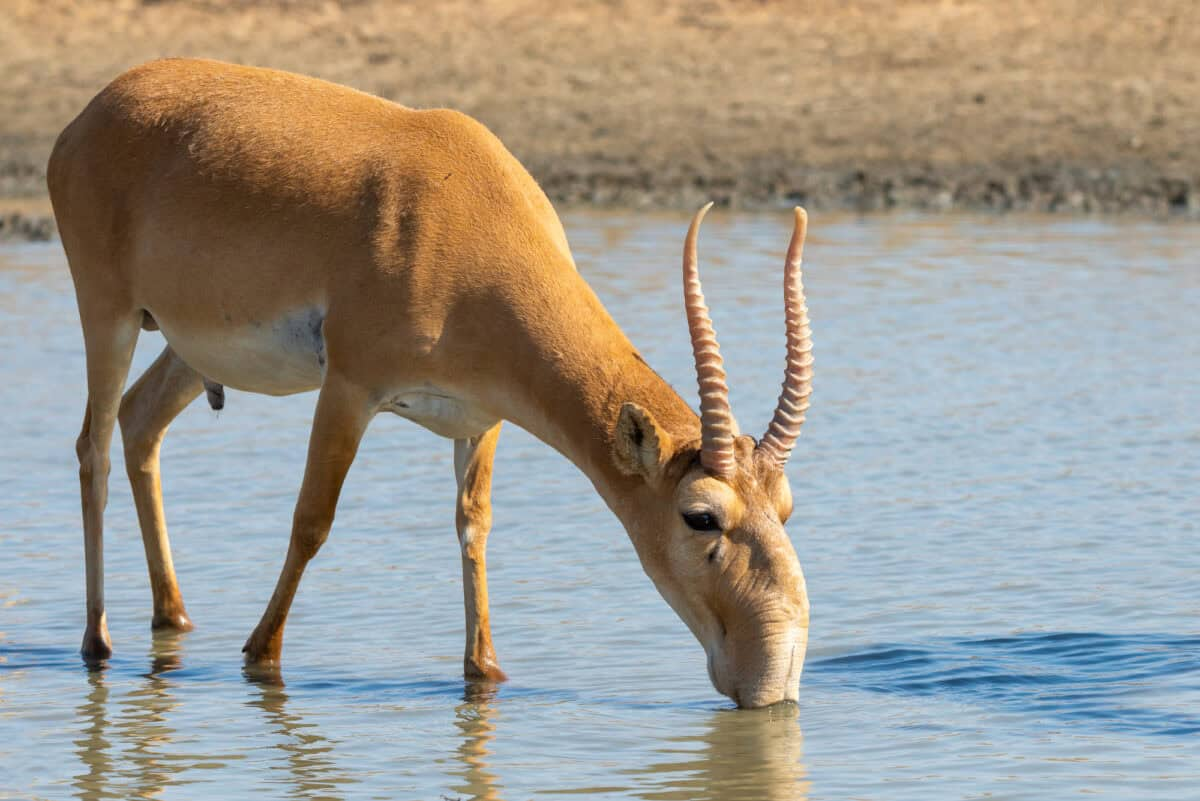saiga: (47, 45, 829, 785)
